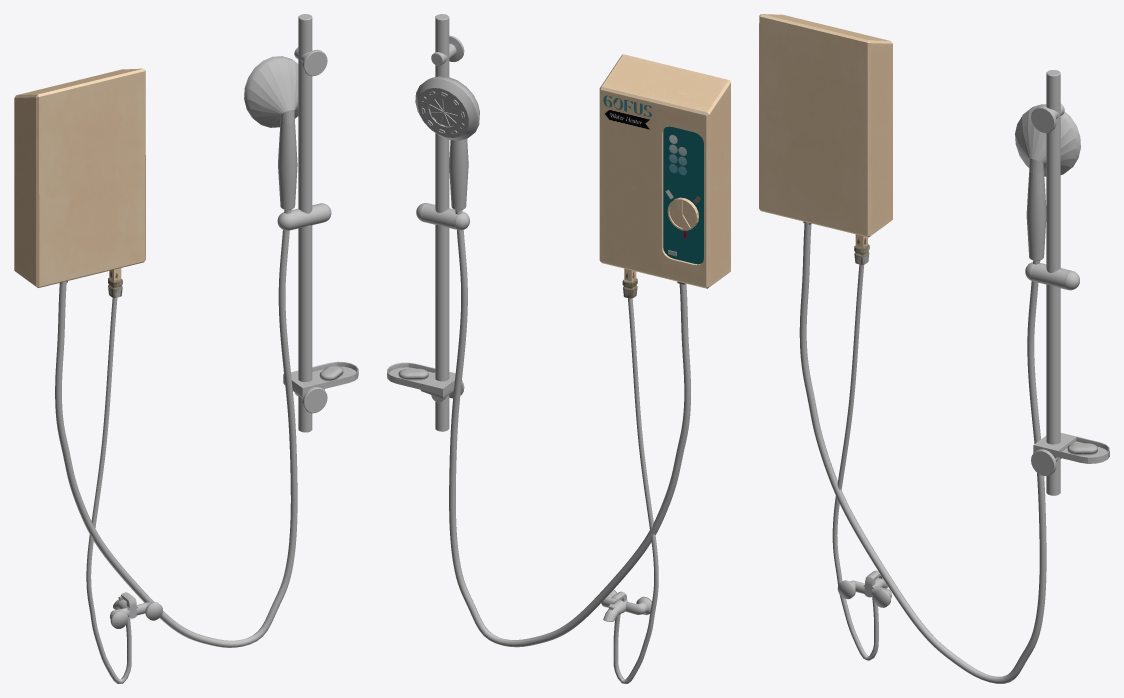
File: shower.fbx
3 views of the same model, side by side, from view 1: azimuth 30°, elevation 25°; view 2: azimuth 150°, elevation 25°; view 3: azimuth 330°, elevation 25° (orthographic).
Parts seen in each view (by area): view 1: waterHeater, strings, showerHead; view 2: waterHeater, strings, showerHead; view 3: waterHeater, strings, showerHead.
Part boxes in pixels (left/top/right/bottom): waterHeater: left=14, top=68, right=145, bottom=297; strings: left=55, top=14, right=358, bottom=683; showerHead: left=244, top=56, right=298, bottom=210; waterHeater: left=599, top=54, right=730, bottom=298; strings: left=387, top=14, right=690, bottom=683; showerHead: left=415, top=76, right=479, bottom=210; waterHeater: left=759, top=14, right=892, bottom=264; strings: left=799, top=70, right=1109, bottom=683; showerHead: left=1015, top=104, right=1080, bottom=260.
Bounding box in the file's own units: 159 × 285 × 24.94.
4 materials, 2 textured.
